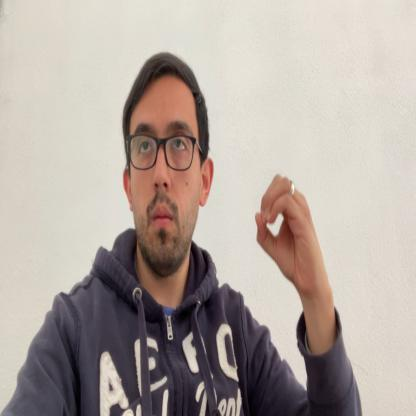O: (255, 172, 322, 300)
